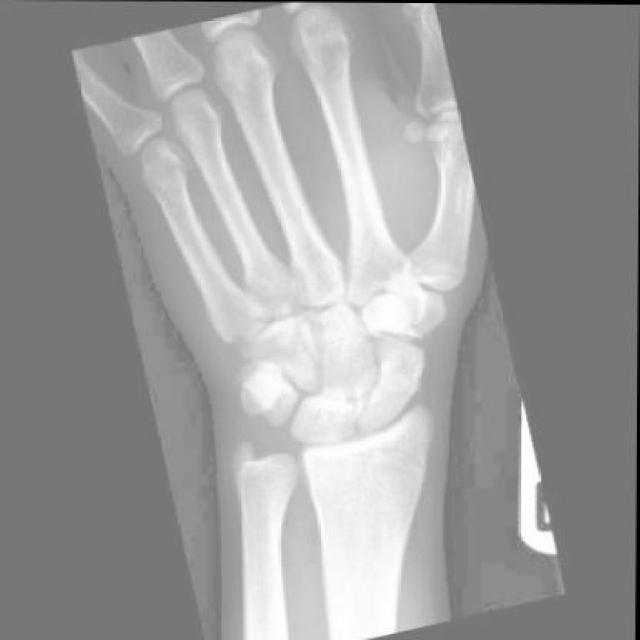Fracture: (361, 357, 422, 405)
